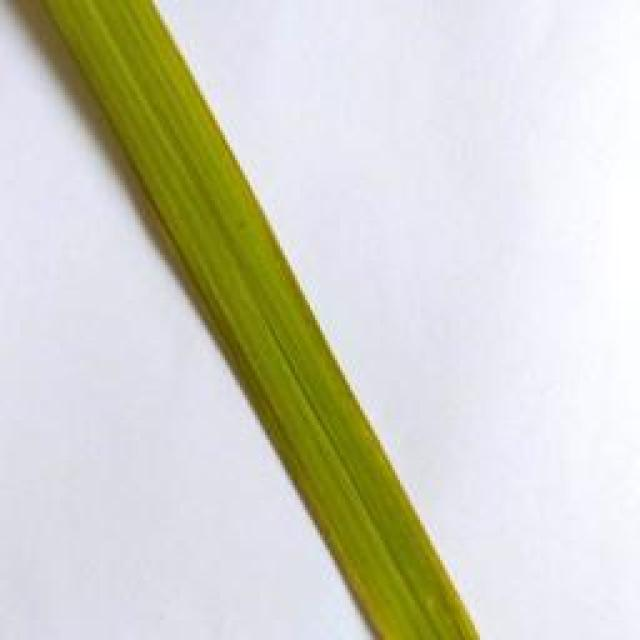Healthy-Plant: (45, 6, 479, 636)
